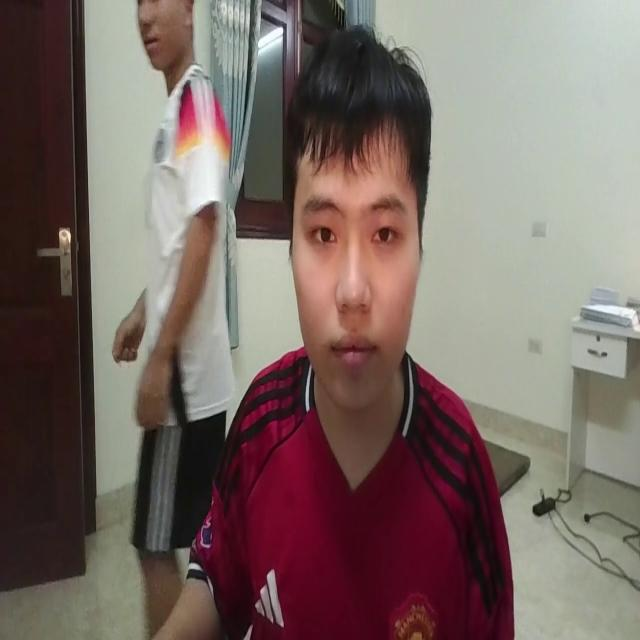extra_person: (90, 1, 236, 640)
student: (156, 21, 516, 640)
